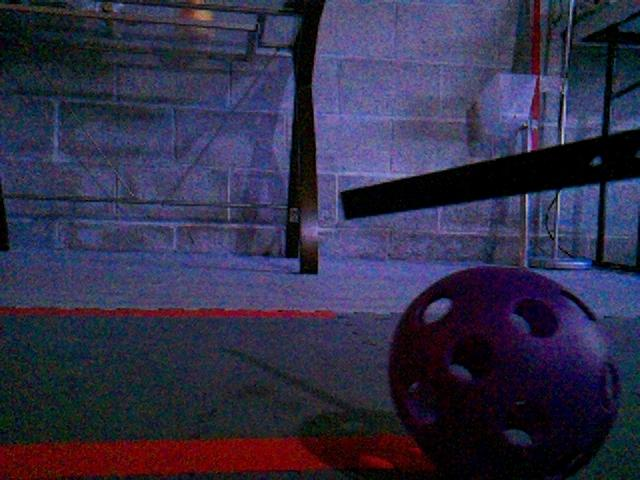Purple: (385, 265, 621, 480)
